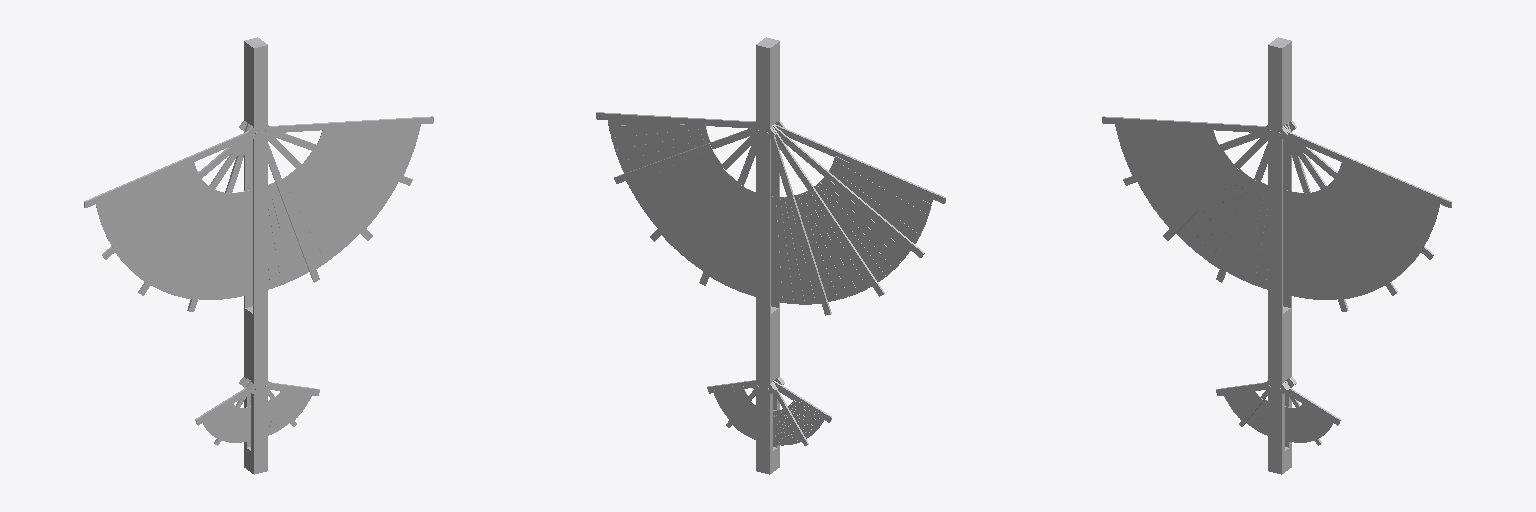
The model's file is Airbender Glider.obj.
The picture shows the model from 3 angles: view 1: azimuth 30°, elevation 25°; view 2: azimuth 150°, elevation 25°; view 3: azimuth 330°, elevation 25°; orthographic projection.
Visible parts, largest first — view 1: mesh 1 Canvas001-124, mesh 3 RoundRod-2; view 2: mesh 1 Canvas001-124, mesh 3 RoundRod-2; view 3: mesh 1 Canvas001-124, mesh 3 RoundRod-2.
Boxes of the visible parts, x1,y1,x2,y2 form: mesh 1 Canvas001-124: [95, 117, 420, 442]; mesh 3 RoundRod-2: [84, 37, 433, 474]; mesh 1 Canvas001-124: [606, 114, 933, 445]; mesh 3 RoundRod-2: [596, 37, 945, 474]; mesh 1 Canvas001-124: [1115, 117, 1440, 442]; mesh 3 RoundRod-2: [1102, 37, 1451, 474].
Size of the model in its own units: 1.72 by 2 by 0.1.